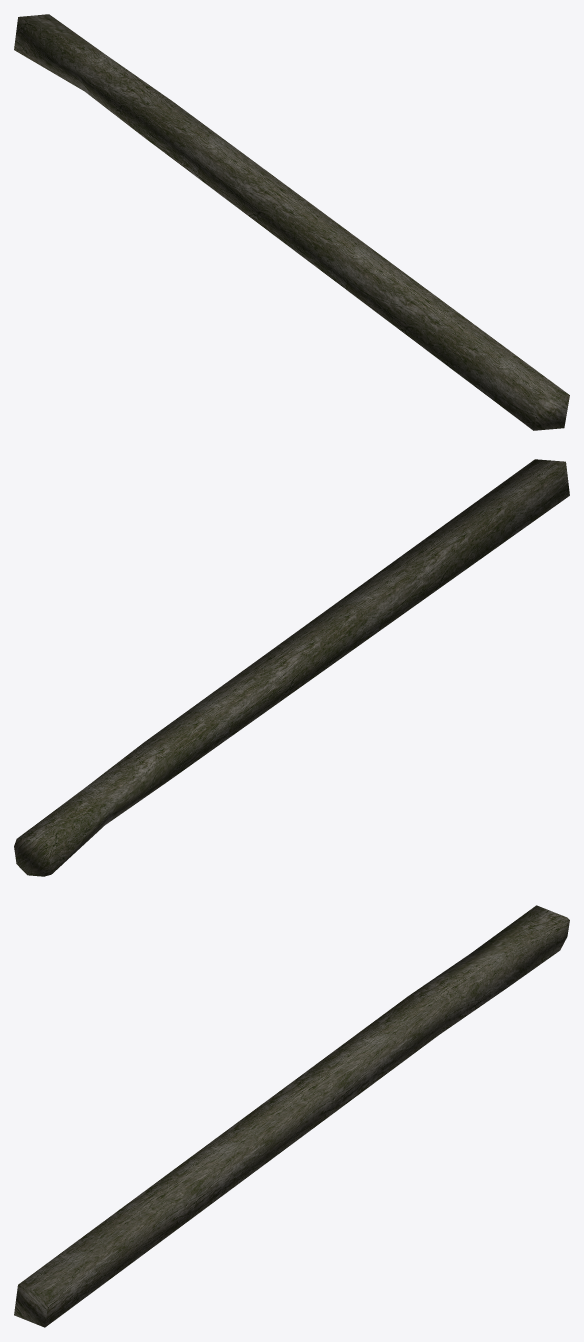
The model's file is TI_Pillar_04.fbx.
3 renders of one model, top to bottom at view 1: azimuth 30°, elevation 25°; view 2: azimuth 150°, elevation 25°; view 3: azimuth 330°, elevation 25°, orthographic.
Parts seen in each view (by area): view 1: TI_Pillar_04; view 2: TI_Pillar_04; view 3: TI_Pillar_04.
Part boxes in pixels (left/top/right/bottom): TI_Pillar_04: left=14, top=14, right=569, bottom=430; TI_Pillar_04: left=14, top=459, right=569, bottom=876; TI_Pillar_04: left=14, top=905, right=569, bottom=1327.
Size of the model in its own units: 0.4615 by 0.4614 by 11.32.
